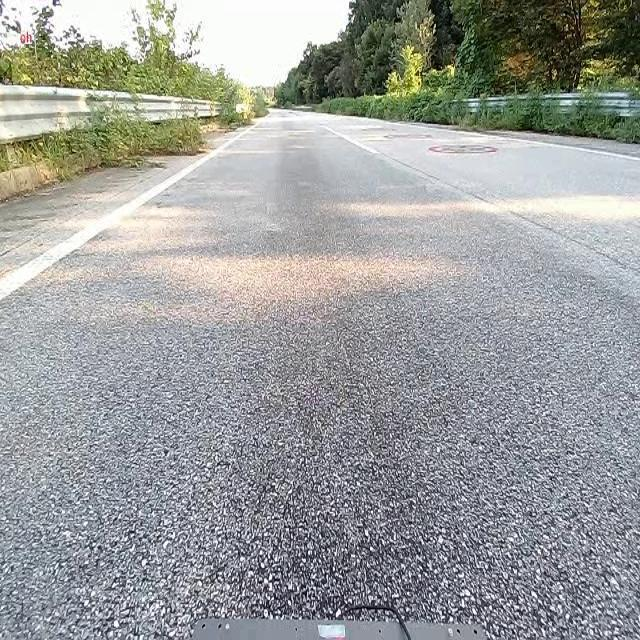Lane: (0, 116, 250, 305), (0, 130, 248, 301)
